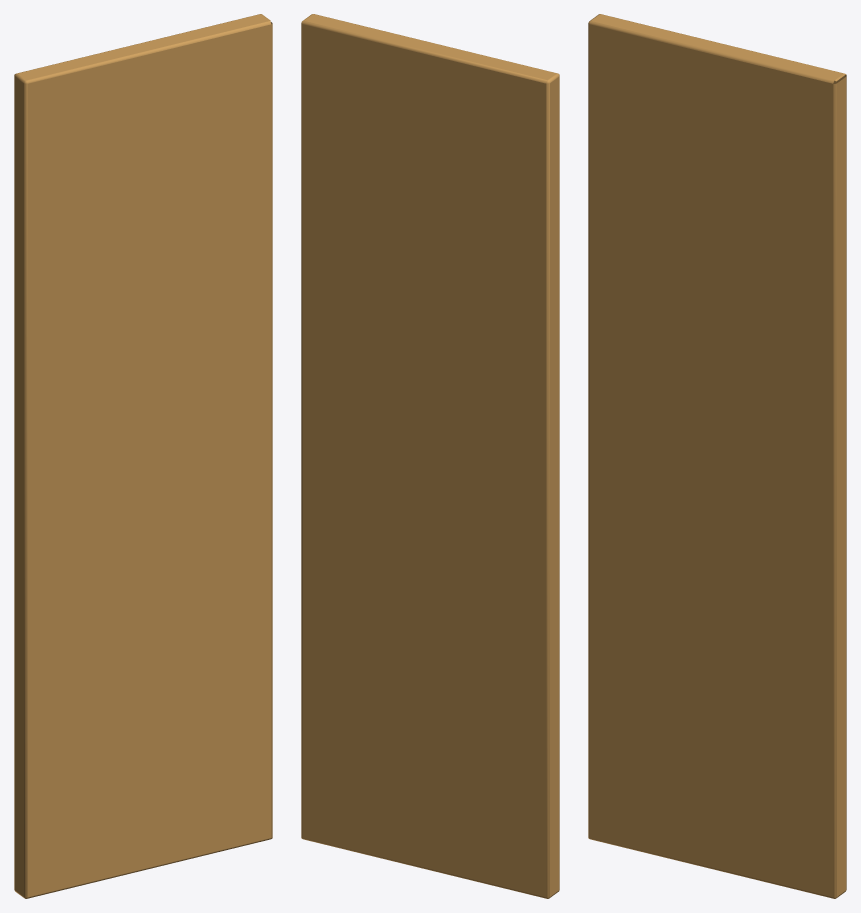
The model's file is 131RightDoor.obj.
3 renders of one model, left to right at view 1: azimuth 30°, elevation 25°; view 2: azimuth 150°, elevation 25°; view 3: azimuth 330°, elevation 25°, orthographic.
Visible parts, largest first — view 1: 131; view 2: 131; view 3: 131.
Boxes of the visible parts, x1=… form: 131: x1=14, y1=14, x2=272, y2=898; 131: x1=301, y1=14, x2=559, y2=898; 131: x1=588, y1=14, x2=846, y2=898.
Size of the model in its own units: 0.5348 by 1.68 by 0.0448.
